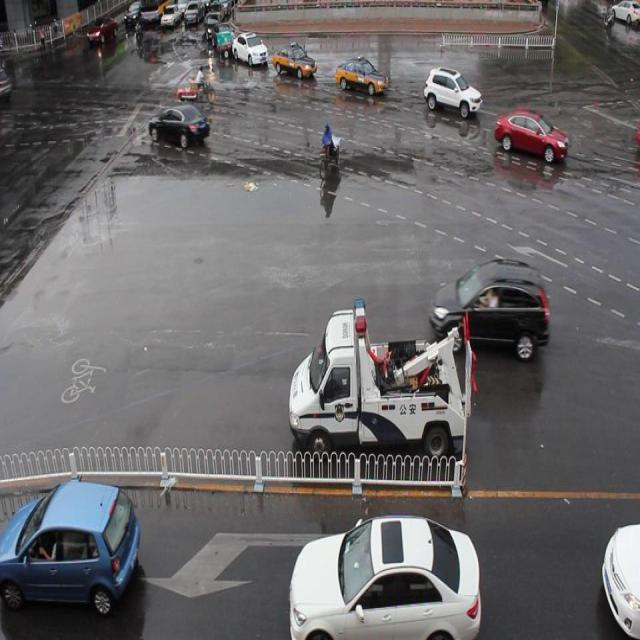bus: (288, 296, 477, 463)
car: (288, 514, 480, 640), (1, 478, 141, 616), (427, 254, 549, 359), (599, 516, 639, 640), (493, 106, 568, 165), (147, 102, 210, 152), (422, 64, 482, 116), (333, 54, 388, 95), (272, 40, 318, 80), (232, 30, 268, 70), (213, 21, 240, 57)
